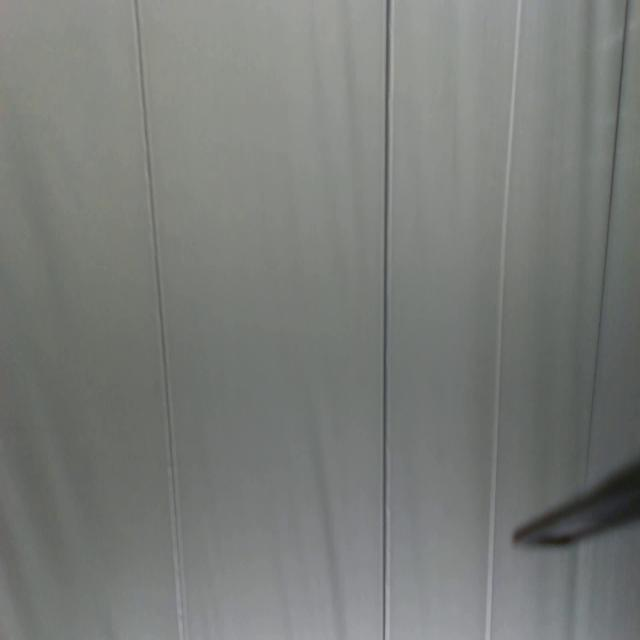crease: (132, 1, 188, 640), (579, 1, 633, 485), (483, 1, 523, 640), (380, 0, 395, 640)
